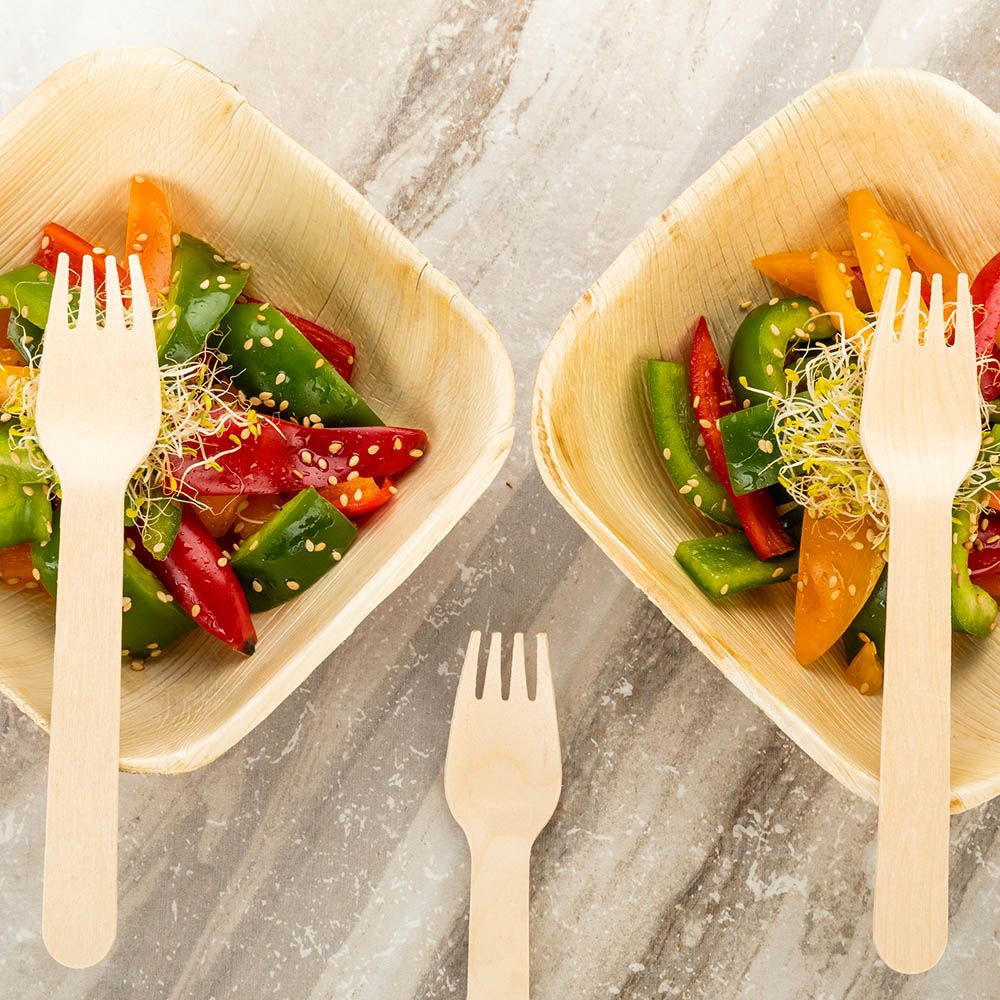Wooden Utensils: (28, 250, 210, 975), (878, 277, 978, 969), (410, 603, 576, 918)
